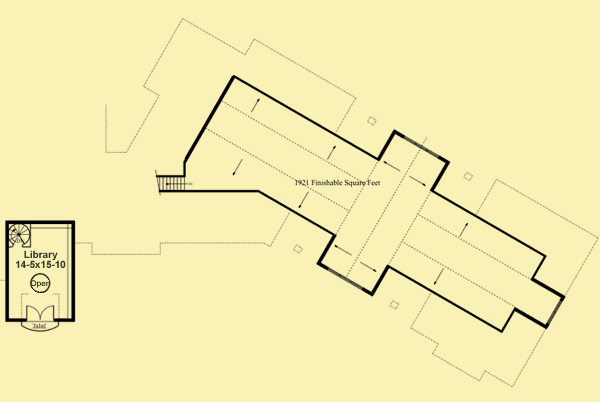door: (23, 302, 58, 323)
stairs: (155, 171, 188, 195)
